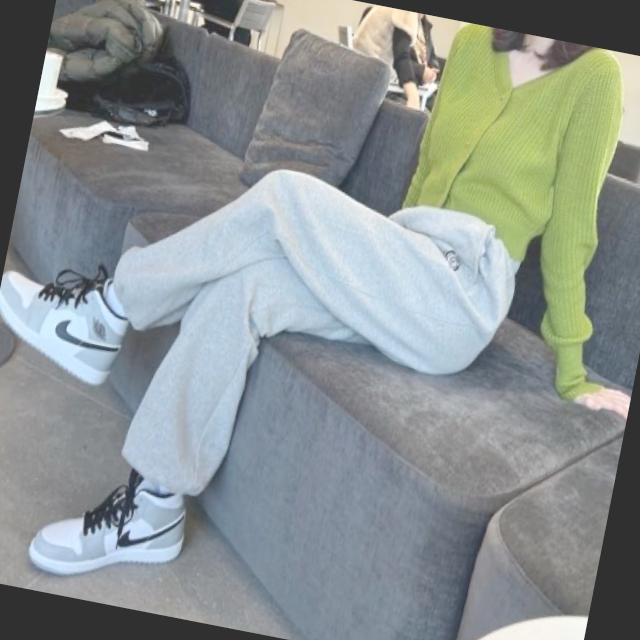cardigan: (373, 18, 640, 414)
trainingpants: (76, 140, 528, 550)
